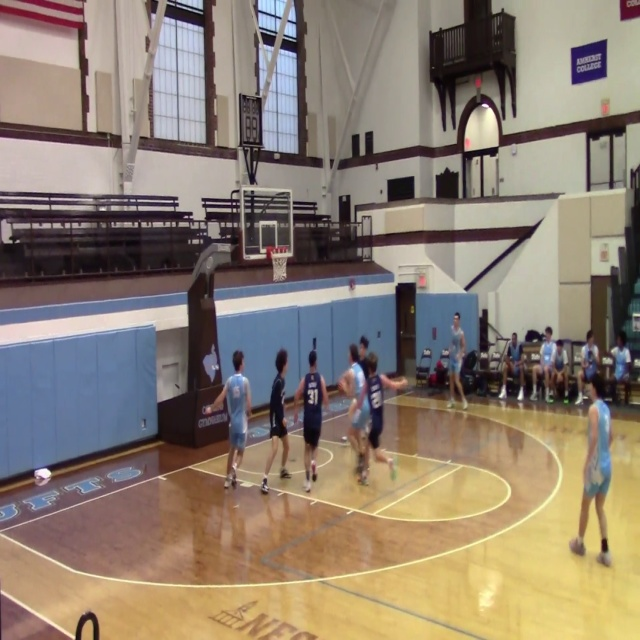Basketball: (338, 366, 363, 398), (202, 406, 212, 415)
